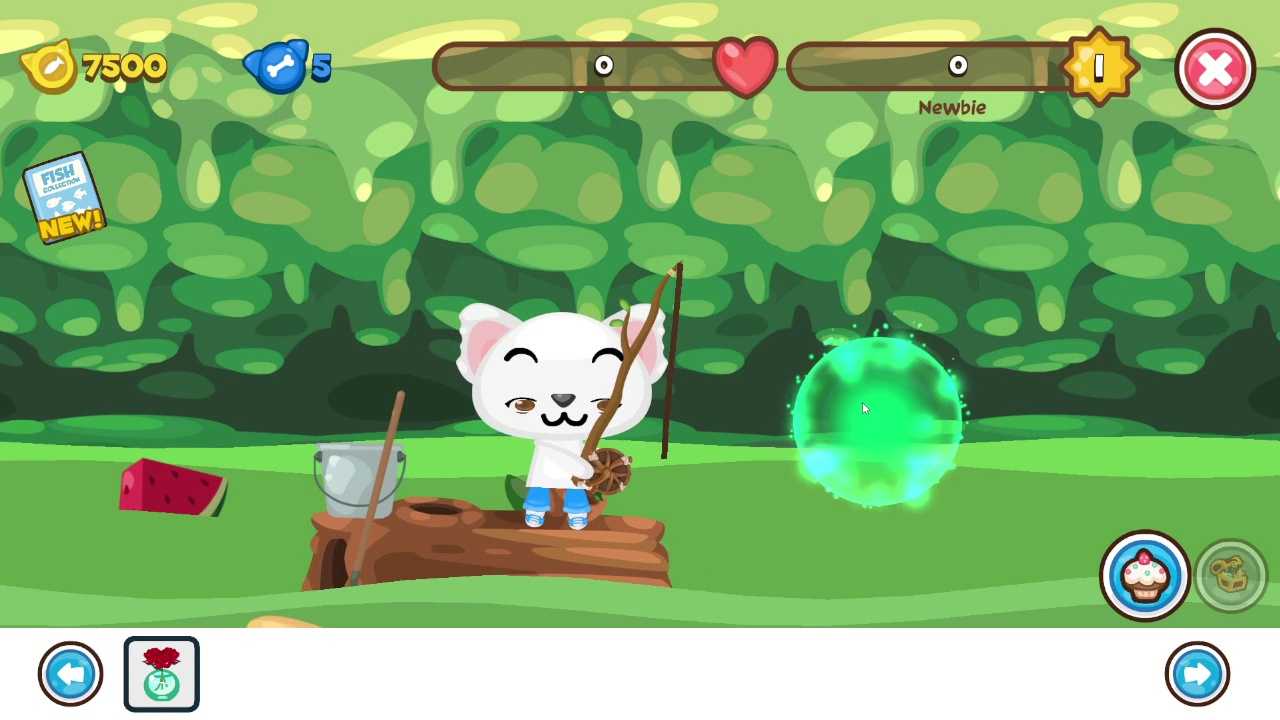point: (790, 335, 965, 510)
